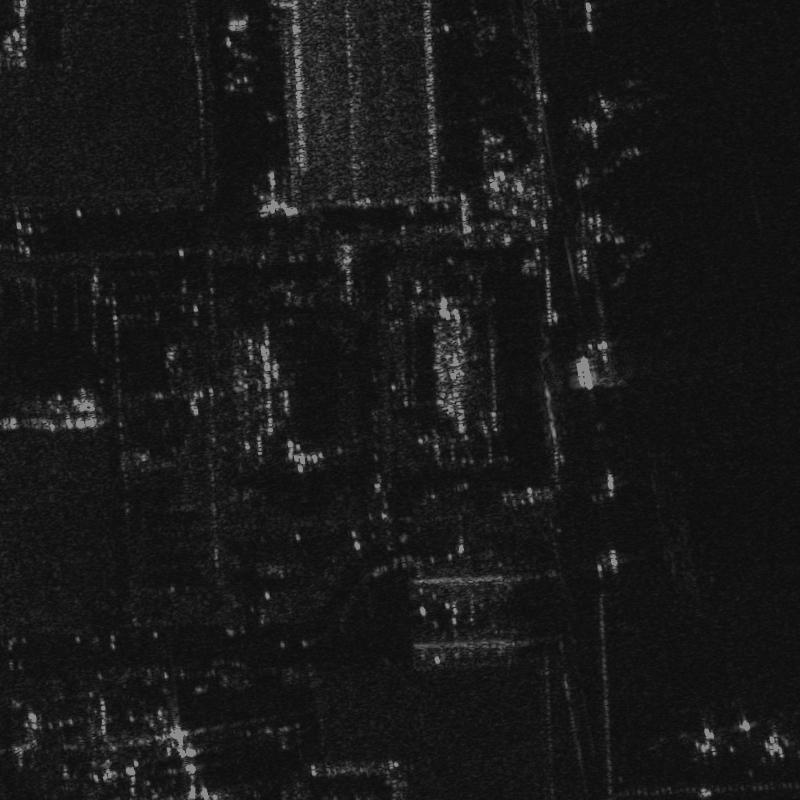ARJ21: (677, 719, 728, 765)
other: (602, 72, 683, 119), (746, 714, 799, 764)
